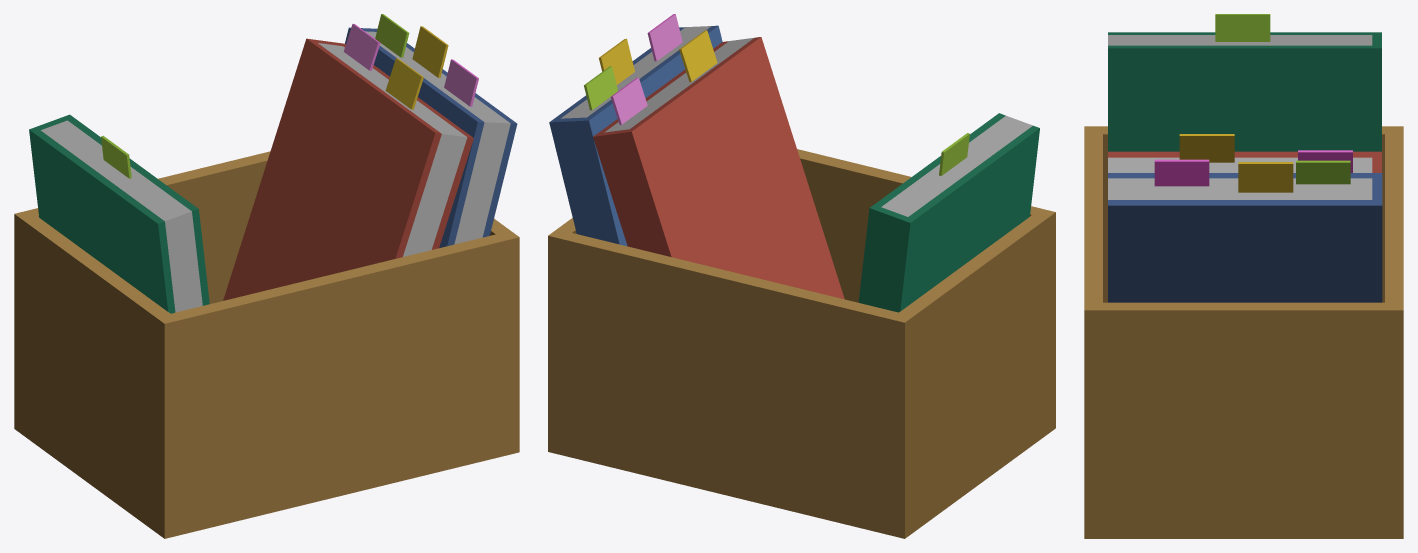
File: SO_Bookbox_01.fbx
The picture shows the model from 3 angles, left to right: view 1: azimuth 30°, elevation 25°; view 2: azimuth 150°, elevation 25°; view 3: azimuth 270°, elevation 25°; orthographic projection. The views are drawn at different scales.
Visible parts, largest first — view 1: SO_Bookbox_01; view 2: SO_Bookbox_01; view 3: SO_Bookbox_01.
Part boxes in pixels (box(x1,y1,x2,y2)): SO_Bookbox_01: box(14, 14, 519, 538); SO_Bookbox_01: box(548, 14, 1055, 538); SO_Bookbox_01: box(1084, 14, 1403, 538).
Bounding box in the file's own units: 1.02 × 0.95 × 0.7286.
